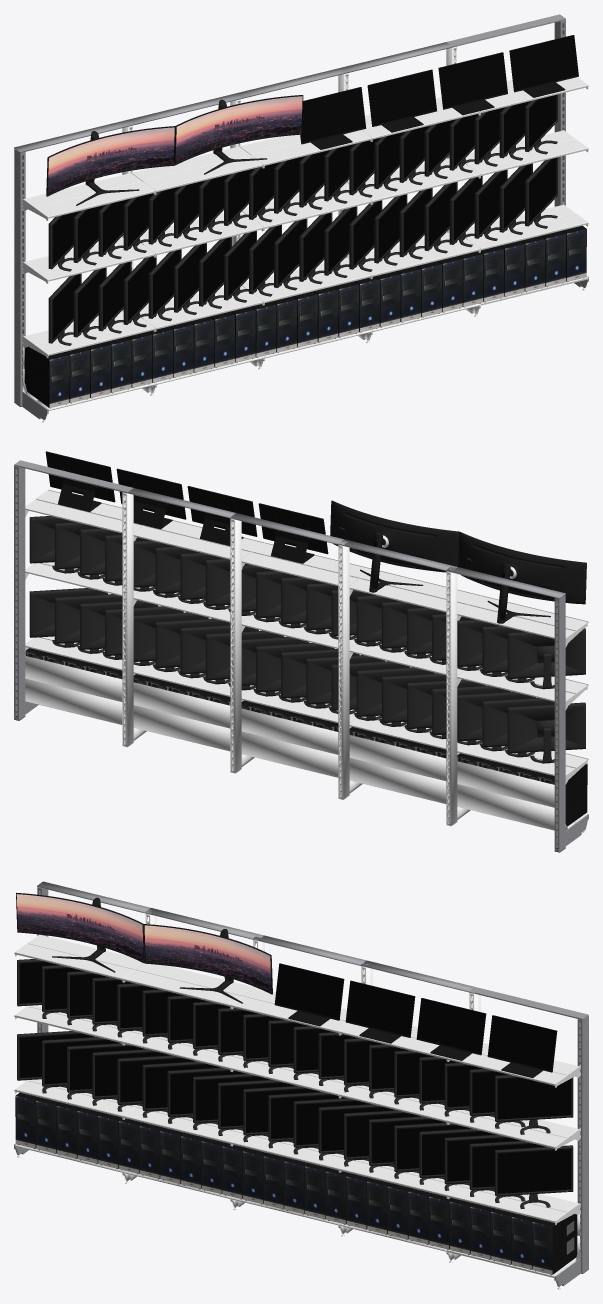
Rendered from мониторы.glb.
3 renders of one model, top to bottom at view 1: azimuth 30°, elevation 25°; view 2: azimuth 150°, elevation 25°; view 3: azimuth 330°, elevation 25°, orthographic.
Visible parts, largest first — view 1: Gigabyte Computer, Cube, Cube.001, Screen2.001, Text.003, Полка 40, Полка 40.001, Полка 40.002, Основа стеллажа 225, Балка оранжевая с основанием 225.005, Основа стеллажа 225.001; view 2: Основа стеллажа 225, Cube, Cube.001, Полка 40.002, Text.003, Screen2.001, Основа стеллажа 225.001, Полка 40.001, Полка 40, Gigabyte Computer, Балка оранжевая с основанием 225.005; view 3: Cube, Gigabyte Computer, Cube.001, Screen2.001, Text.003, Полка 40.002, Полка 40.001, Полка 40, Основа стеллажа 225, Основа стеллажа 225.001.
Boxes of the visible parts, x1,y1,x2,y2 form: Gigabyte Computer: [24, 225, 586, 408]; Cube: [48, 157, 557, 345]; Cube.001: [48, 94, 557, 271]; Screen2.001: [300, 35, 578, 149]; Text.003: [46, 95, 303, 205]; Полка 40: [22, 204, 588, 358]; Полка 40.001: [22, 130, 588, 283]; Полка 40.002: [22, 77, 588, 220]; Основа стеллажа 225: [14, 42, 480, 410]; Балка оранжевая с основанием 225.005: [14, 149, 48, 422]; Основа стеллажа 225.001: [446, 14, 588, 305]; Основа стеллажа 225: [122, 488, 587, 830]; Cube: [29, 588, 585, 763]; Cube.001: [29, 516, 585, 689]; Полка 40.002: [25, 489, 588, 647]; Text.003: [330, 500, 586, 623]; Screen2.001: [45, 451, 328, 563]; Основа стеллажа 225.001: [14, 460, 133, 724]; Полка 40.001: [25, 562, 588, 710]; Полка 40: [25, 636, 588, 784]; Gigabyte Computer: [25, 648, 587, 826]; Балка оранжевая с основанием 225.005: [554, 595, 588, 852]; Cube: [17, 1031, 573, 1208]; Gigabyte Computer: [15, 1092, 577, 1275]; Cube.001: [17, 959, 573, 1134]; Screen2.001: [274, 963, 557, 1077]; Text.003: [16, 892, 272, 1003]; Полка 40.002: [14, 934, 580, 1087]; Полка 40.001: [14, 1005, 580, 1150]; Полка 40: [14, 1079, 580, 1225]; Основа стеллажа 225: [15, 881, 480, 1262]; Основа стеллажа 225.001: [447, 987, 588, 1289].
Bounding box in the file's own units: 5.08 × 2.38 × 0.517.
20 materials, 4 textured.
